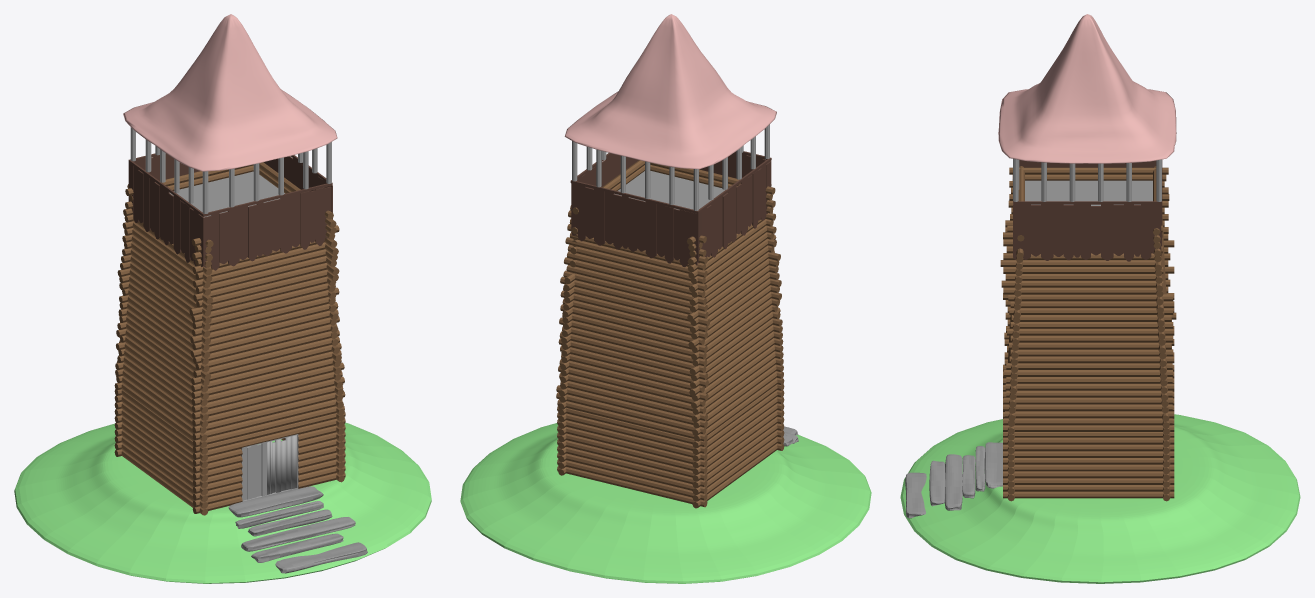
Rendered from Tower3.fbx.
The picture shows the model from 3 angles, left to right: view 1: azimuth 30°, elevation 25°; view 2: azimuth 150°, elevation 25°; view 3: azimuth 270°, elevation 25°; orthographic projection.
Visible parts, largest first — view 1: Tower3; view 2: Tower3; view 3: Tower3.
Part boxes in pixels (left/top/right/bottom): Tower3: left=14, top=14, right=431, bottom=583; Tower3: left=460, top=14, right=871, bottom=583; Tower3: left=900, top=14, right=1300, bottom=583.
Size of the model in its own units: 13.52 by 17.87 by 13.15.
